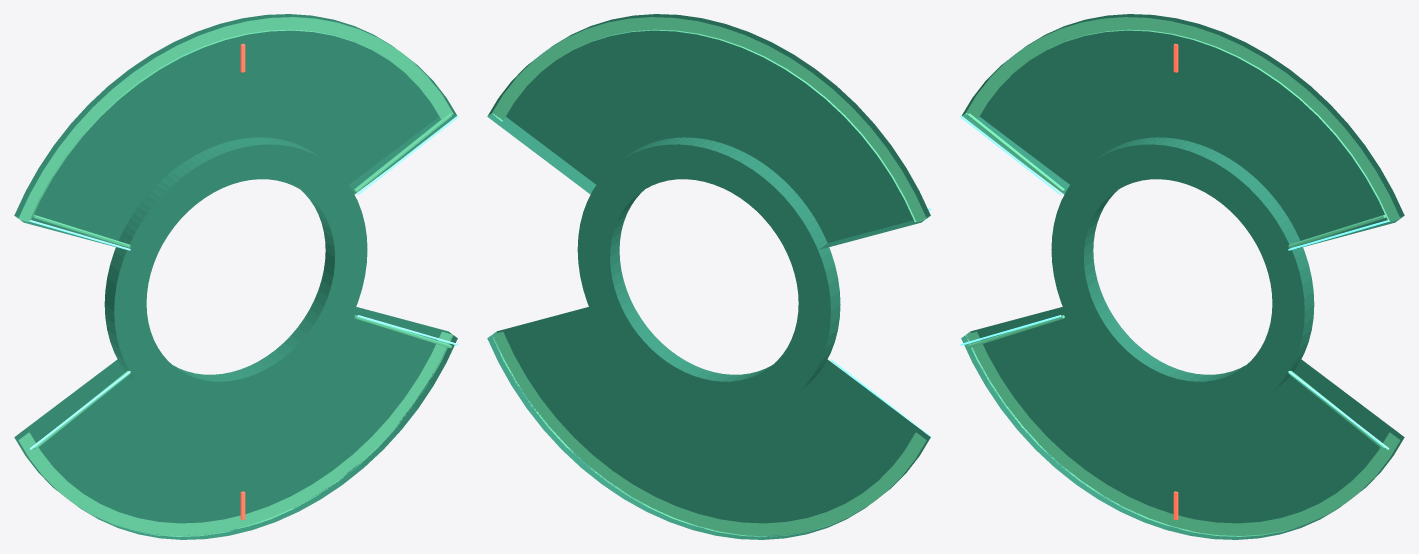
File: bio-panel-fun9-high.glb
The picture shows the model from 3 angles, left to right: view 1: azimuth 30°, elevation 25°; view 2: azimuth 150°, elevation 25°; view 3: azimuth 330°, elevation 25°; orthographic projection.
Parts seen in each view (by area): view 1: RENDER_PANEL_SHELL, RENDER_PANEL_FRAME, RENDER_PANEL_SIGNAL; view 2: RENDER_PANEL_SHELL, RENDER_PANEL_FRAME; view 3: RENDER_PANEL_SHELL, RENDER_PANEL_FRAME, RENDER_PANEL_SIGNAL.
Boxes of the visible parts, left/top/right/bottom form: RENDER_PANEL_SHELL: left=14, top=14, right=457, bottom=539; RENDER_PANEL_FRAME: left=18, top=17, right=453, bottom=536; RENDER_PANEL_SIGNAL: left=29, top=115, right=458, bottom=449; RENDER_PANEL_SHELL: left=487, top=14, right=930, bottom=539; RENDER_PANEL_FRAME: left=492, top=17, right=926, bottom=536; RENDER_PANEL_SHELL: left=961, top=14, right=1404, bottom=539; RENDER_PANEL_FRAME: left=965, top=17, right=1400, bottom=536; RENDER_PANEL_SIGNAL: left=960, top=115, right=1389, bottom=449.
Size of what is drawn, in the model's own units: 36.85 by 40.95 by 1.95.
